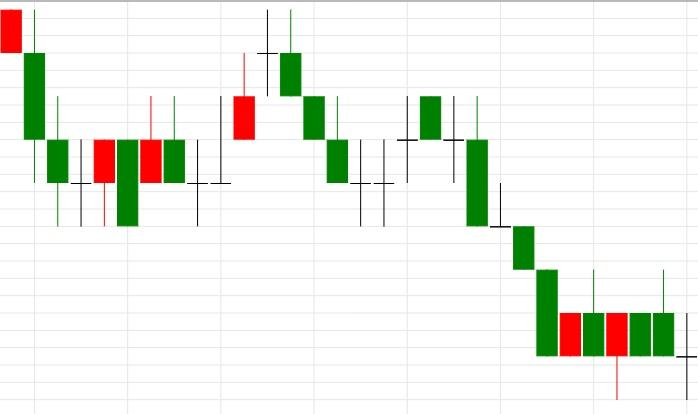morning_star_rise: (0, 9, 116, 226)
three_black_crows_fall: (186, 10, 349, 227)
